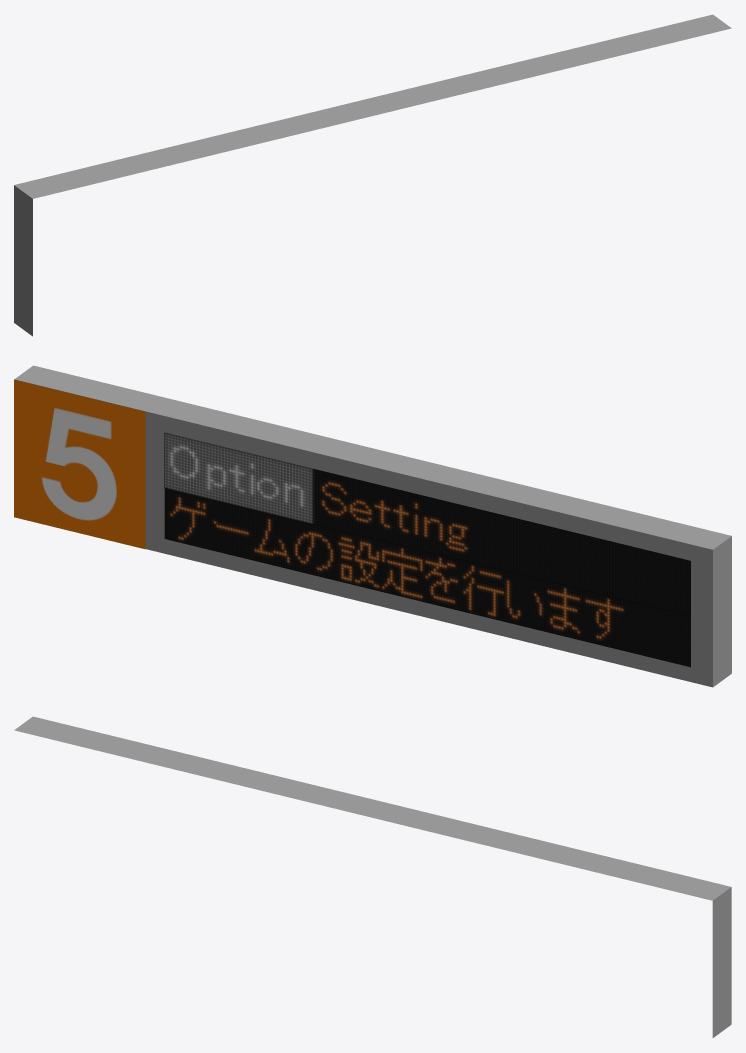
The model's file is MENU05.glb.
3 views of the same model, one above another, from view 1: azimuth 30°, elevation 25°; view 2: azimuth 150°, elevation 25°; view 3: azimuth 330°, elevation 25° (orthographic).
Visible parts, largest first — view 1: BOX5; view 2: BOX5, Btl_E4; view 3: BOX5.
Boxes of the visible parts, bbox=[...] form: BOX5: bbox=[14, 14, 731, 336]; BOX5: bbox=[14, 365, 731, 687]; Btl_E4: bbox=[164, 433, 690, 616]; BOX5: bbox=[14, 716, 731, 1037].
Size of the model in its own units: 26.55 by 5 by 1.35.
Materials: 5 (5 with a texture image).
